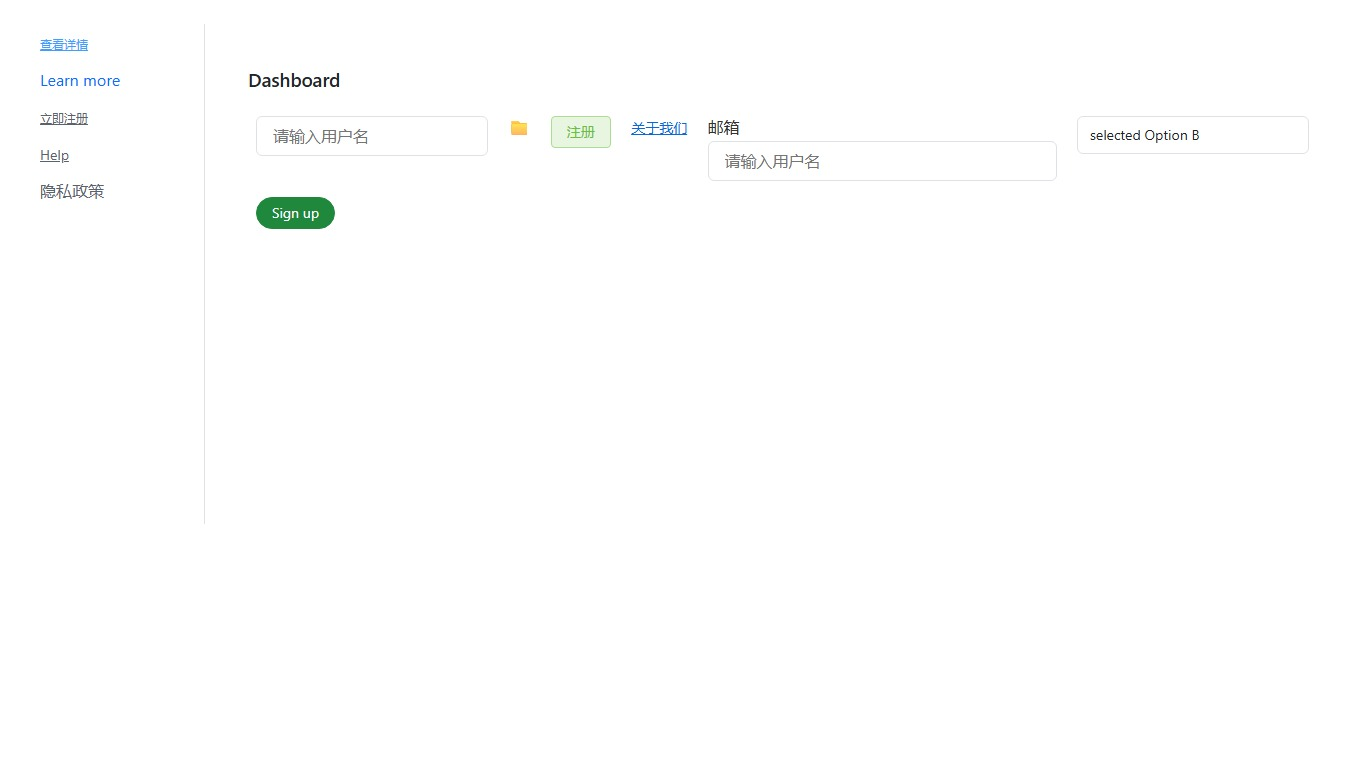button: (256, 197, 335, 229), (551, 116, 611, 148)
icon: (508, 119, 530, 135)
input: (708, 141, 1057, 181), (256, 116, 488, 156)
link: (40, 69, 120, 90), (40, 180, 104, 201), (631, 118, 687, 137), (40, 36, 88, 52), (40, 110, 88, 126), (40, 145, 69, 164)
select: (1077, 116, 1309, 154)
